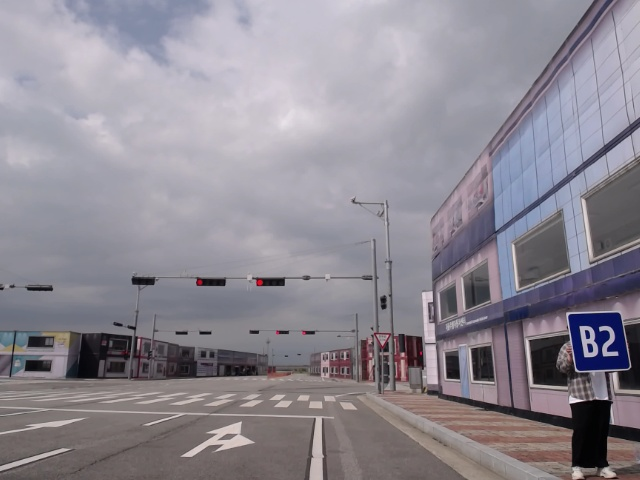delivery_b2: (565, 311, 631, 373)
red_4: (254, 275, 288, 289), (193, 275, 229, 288), (301, 329, 319, 336), (275, 329, 291, 336)
